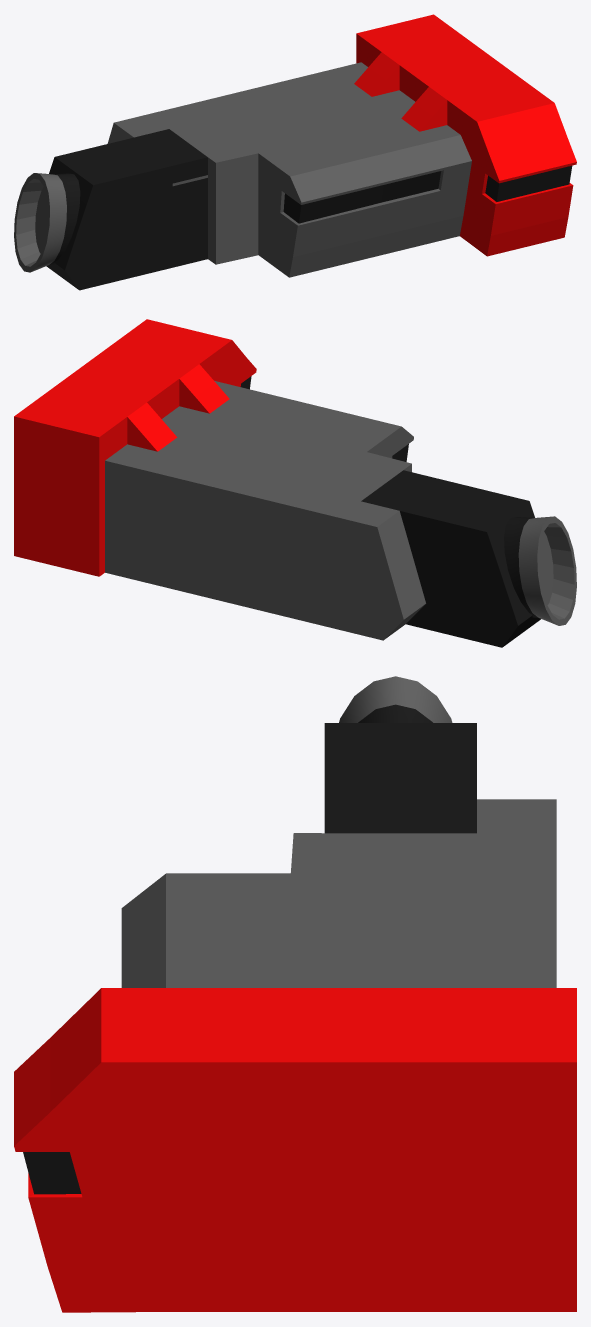
File: HQ_Robot.FBX
3 renders of one model, top to bottom at view 1: azimuth 30°, elevation 25°; view 2: azimuth 150°, elevation 25°; view 3: azimuth 270°, elevation 25°, orthographic. The views are drawn at different scales.
Parts seen in each view (by area): view 1: HeadQuarters, Cylinder001; view 2: HeadQuarters, Cylinder001; view 3: HeadQuarters, Cylinder001.
Part boxes in pixels (left/top/right/bottom): HeadQuarters: left=46, top=14, right=576, bottom=290; Cylinder001: left=14, top=173, right=80, bottom=272; HeadQuarters: left=14, top=319, right=540, bottom=647; Cylinder001: left=504, top=516, right=576, bottom=625; HeadQuarters: left=14, top=723, right=576, bottom=1312; Cylinder001: left=339, top=676, right=452, bottom=722.
Size of the model in its own units: 307 by 81.84 by 167.
